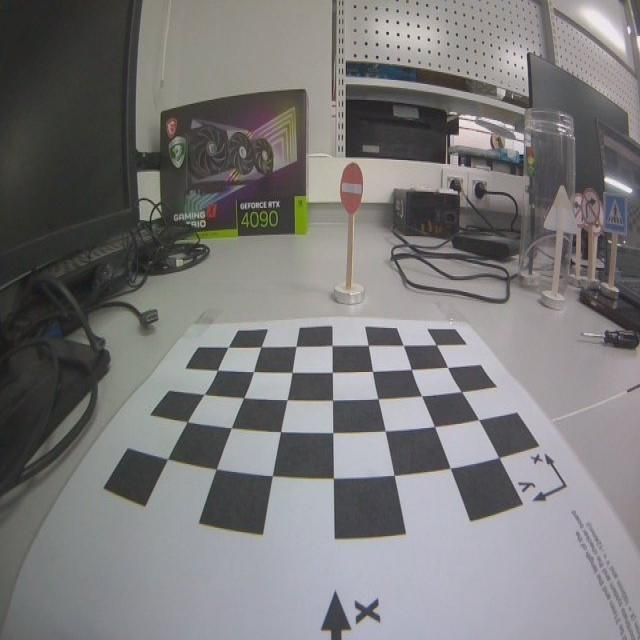Dilarang Masuk: (340, 161, 363, 216)
